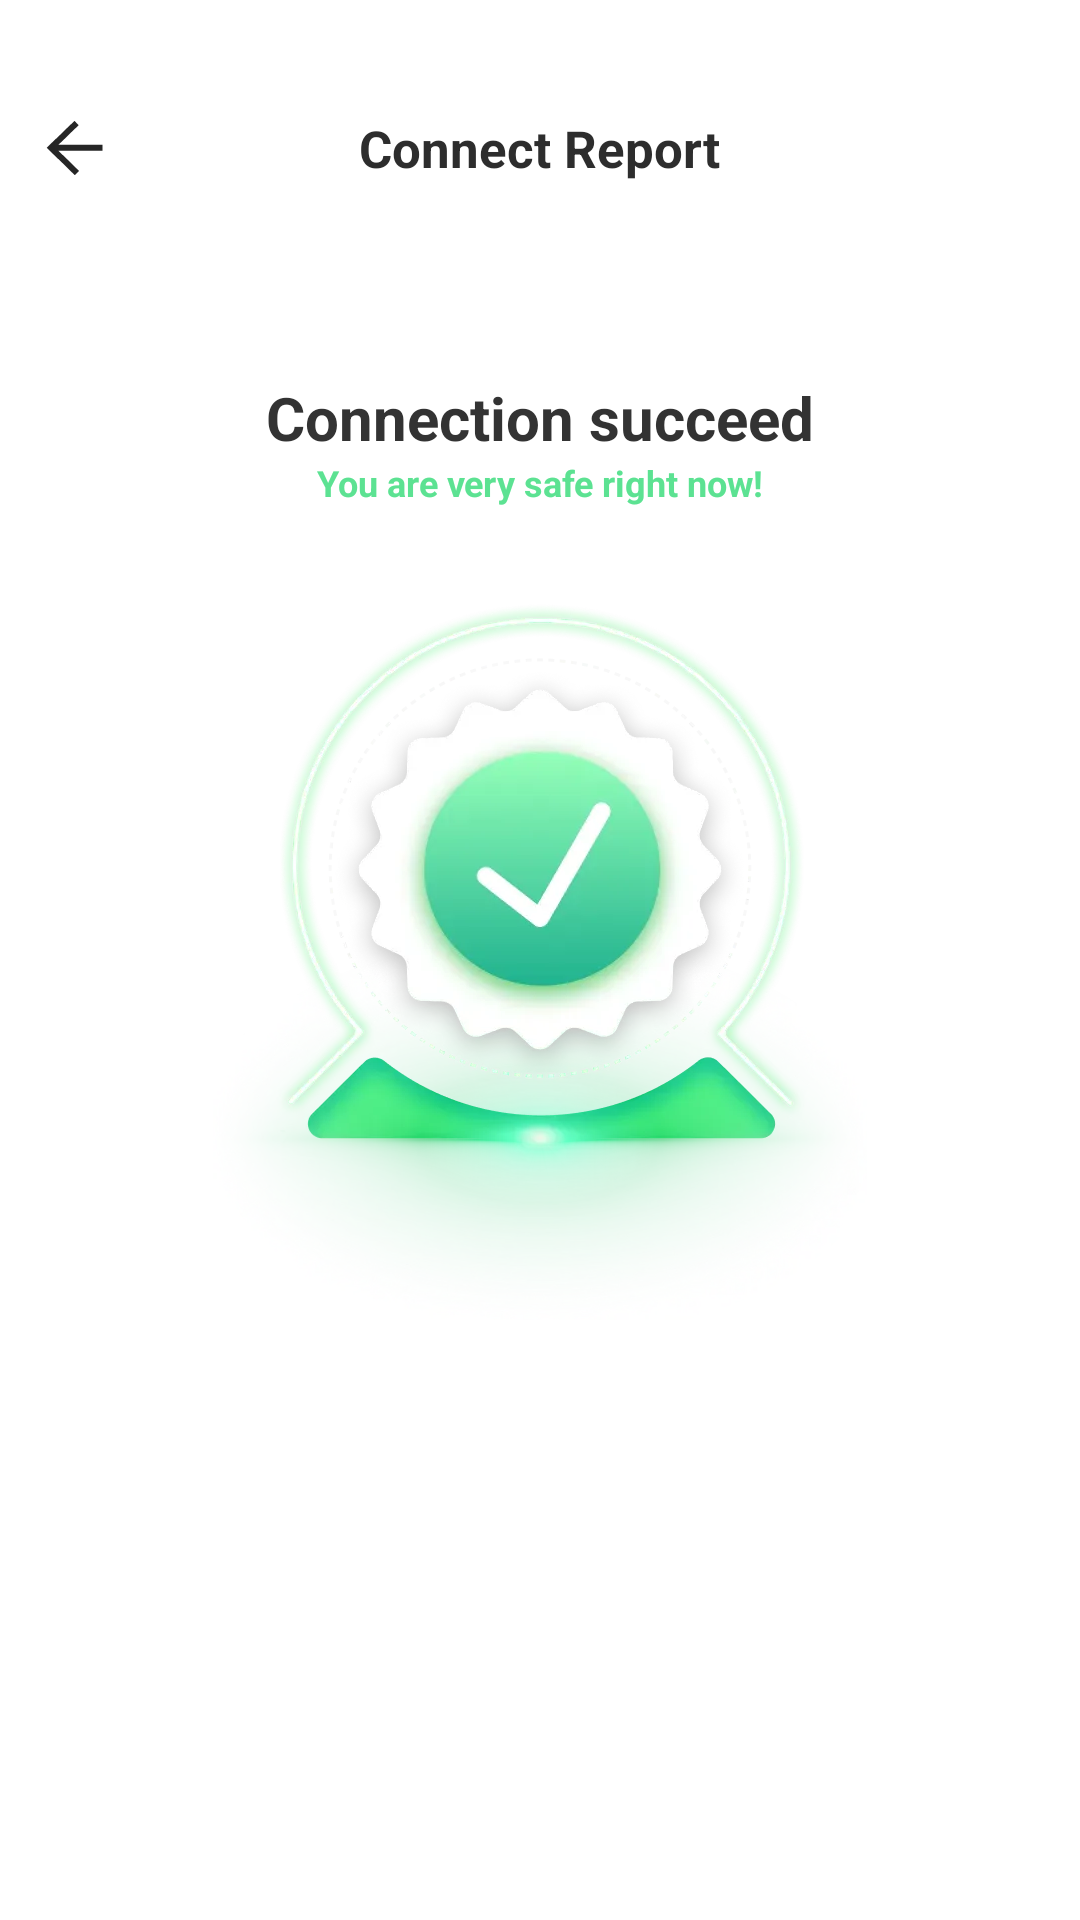

Where to tap for icons on this 1080×1920 app screen, as (x=x, y=y):
back: (x=75, y=148)
